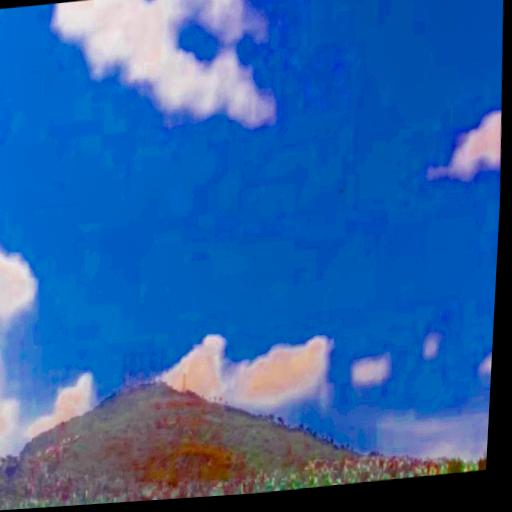drones: (333, 183, 345, 198)
